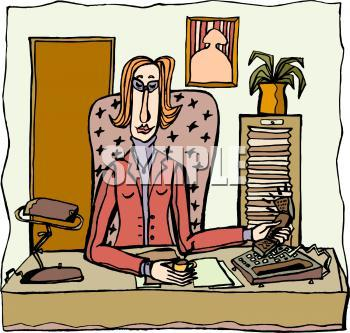person: (79, 53, 293, 286)
pottedplant: (244, 48, 304, 115)
